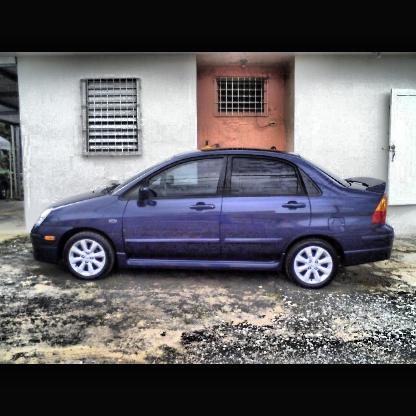Suzuki Aerio Sedan 2007: (31, 148, 395, 291)
